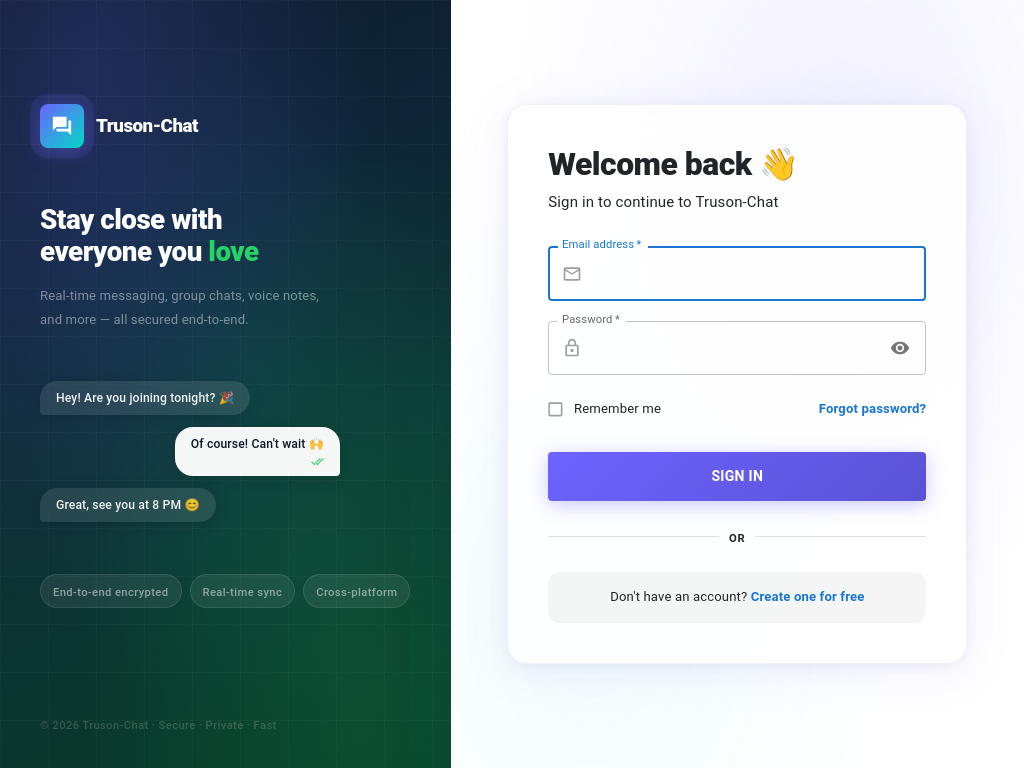
Test: LoginPage › shows an error message on 401 invalid credentials
This screenshot has width=1024, height=768.
Type "wrong@example.com" into the field labelled "Email address *" at (758, 274), box [590, 246, 926, 301]
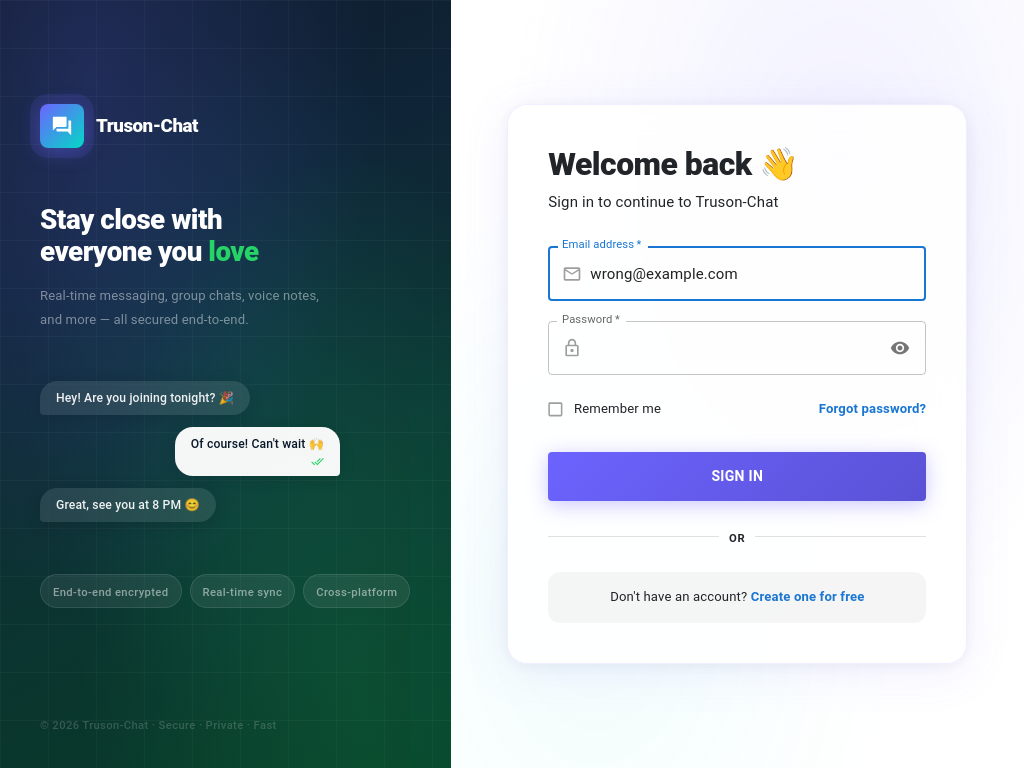
Type "wrongpassword" into the password field labelled "Password *" at (734, 348), box [590, 321, 877, 375]
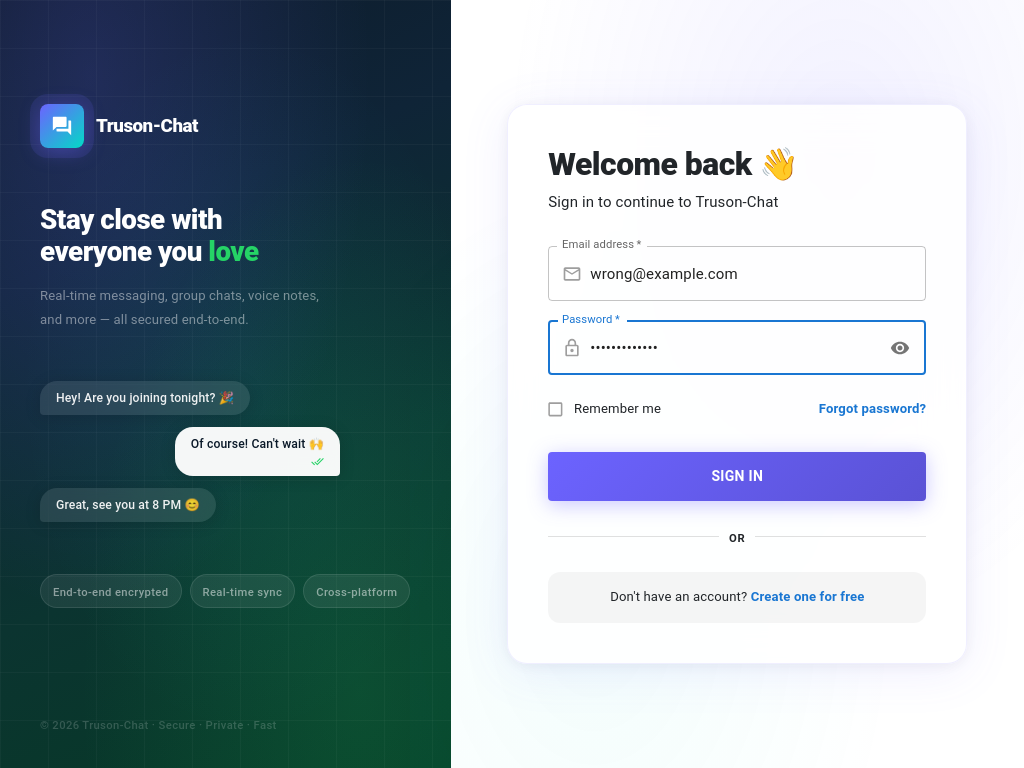
Click the button "Sign in" at (737, 476), box [548, 452, 926, 501]
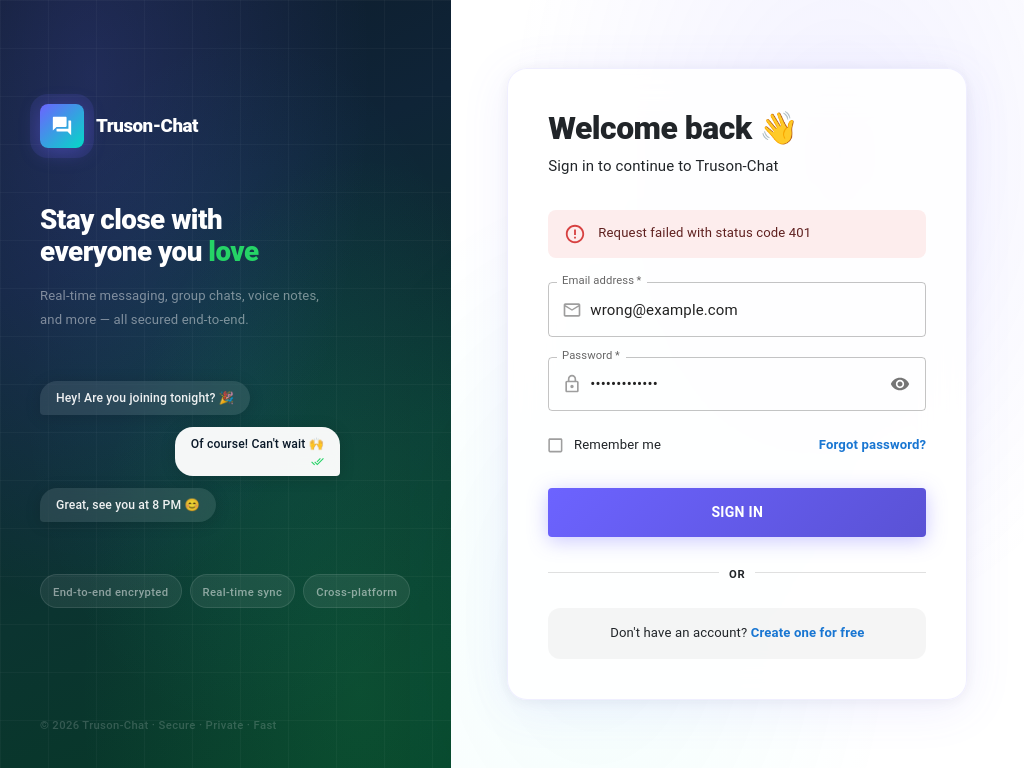
Now the message "Request failed with status code 401" is shown, box [548, 210, 926, 258]
